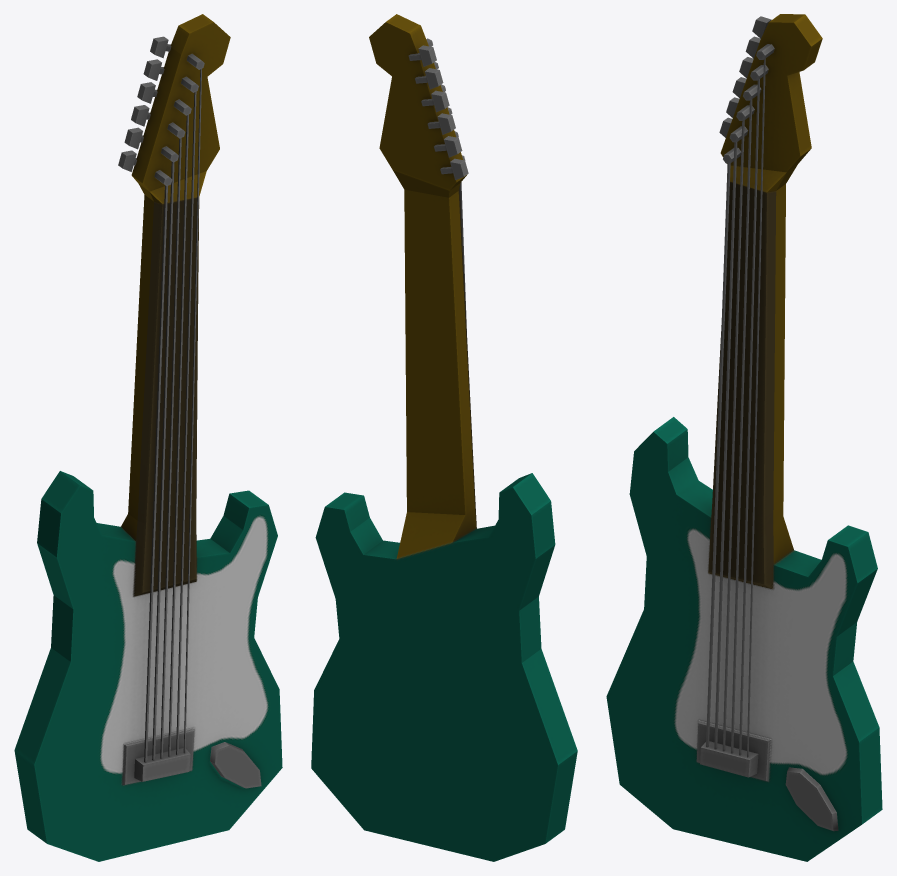
Rendered from guitar.glb.
3 renders of one model, left to right at view 1: azimuth 30°, elevation 25°; view 2: azimuth 150°, elevation 25°; view 3: azimuth 330°, elevation 25°, orthographic. The views are drawn at different scales.
Visible parts, largest first — view 1: ElectricGuitar_mesh; view 2: ElectricGuitar_mesh; view 3: ElectricGuitar_mesh.
Boxes of the visible parts, box(x1,y1,x2,y2) form: ElectricGuitar_mesh: box(14, 14, 282, 861); ElectricGuitar_mesh: box(311, 14, 577, 861); ElectricGuitar_mesh: box(606, 14, 882, 861).
Size of the model in its own units: 7.24 by 22.6 by 1.44.
1 material, 1 textured.
